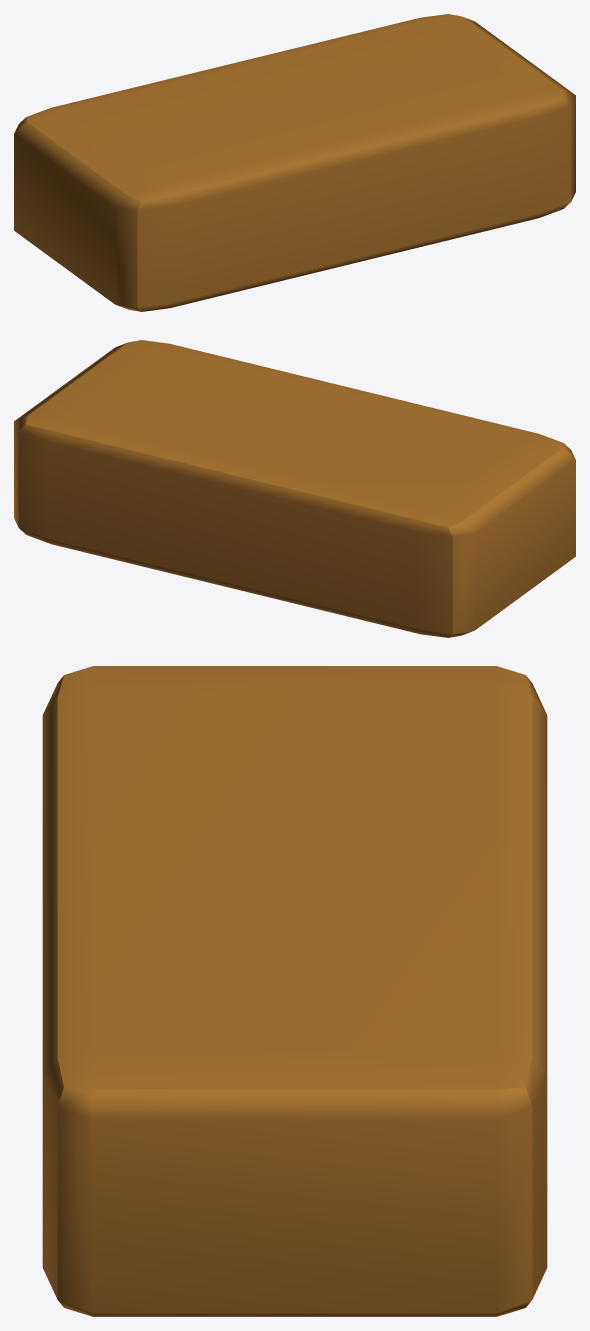
File: Bloque_4_low.fbx
3 views of the same model, one above another, from view 1: azimuth 30°, elevation 25°; view 2: azimuth 150°, elevation 25°; view 3: azimuth 270°, elevation 25° (orthographic). The views are drawn at different scales.
Parts seen in each view (by area): view 1: bloque_4; view 2: bloque_4; view 3: bloque_4.
Boxes of the visible parts, box(x1,y1,x2,y2) form: bloque_4: box(14, 14, 575, 311); bloque_4: box(14, 340, 575, 637); bloque_4: box(42, 666, 547, 1316).
Size of what is drawn, in the model's own units: 16.62 by 4.16 by 7.87.
